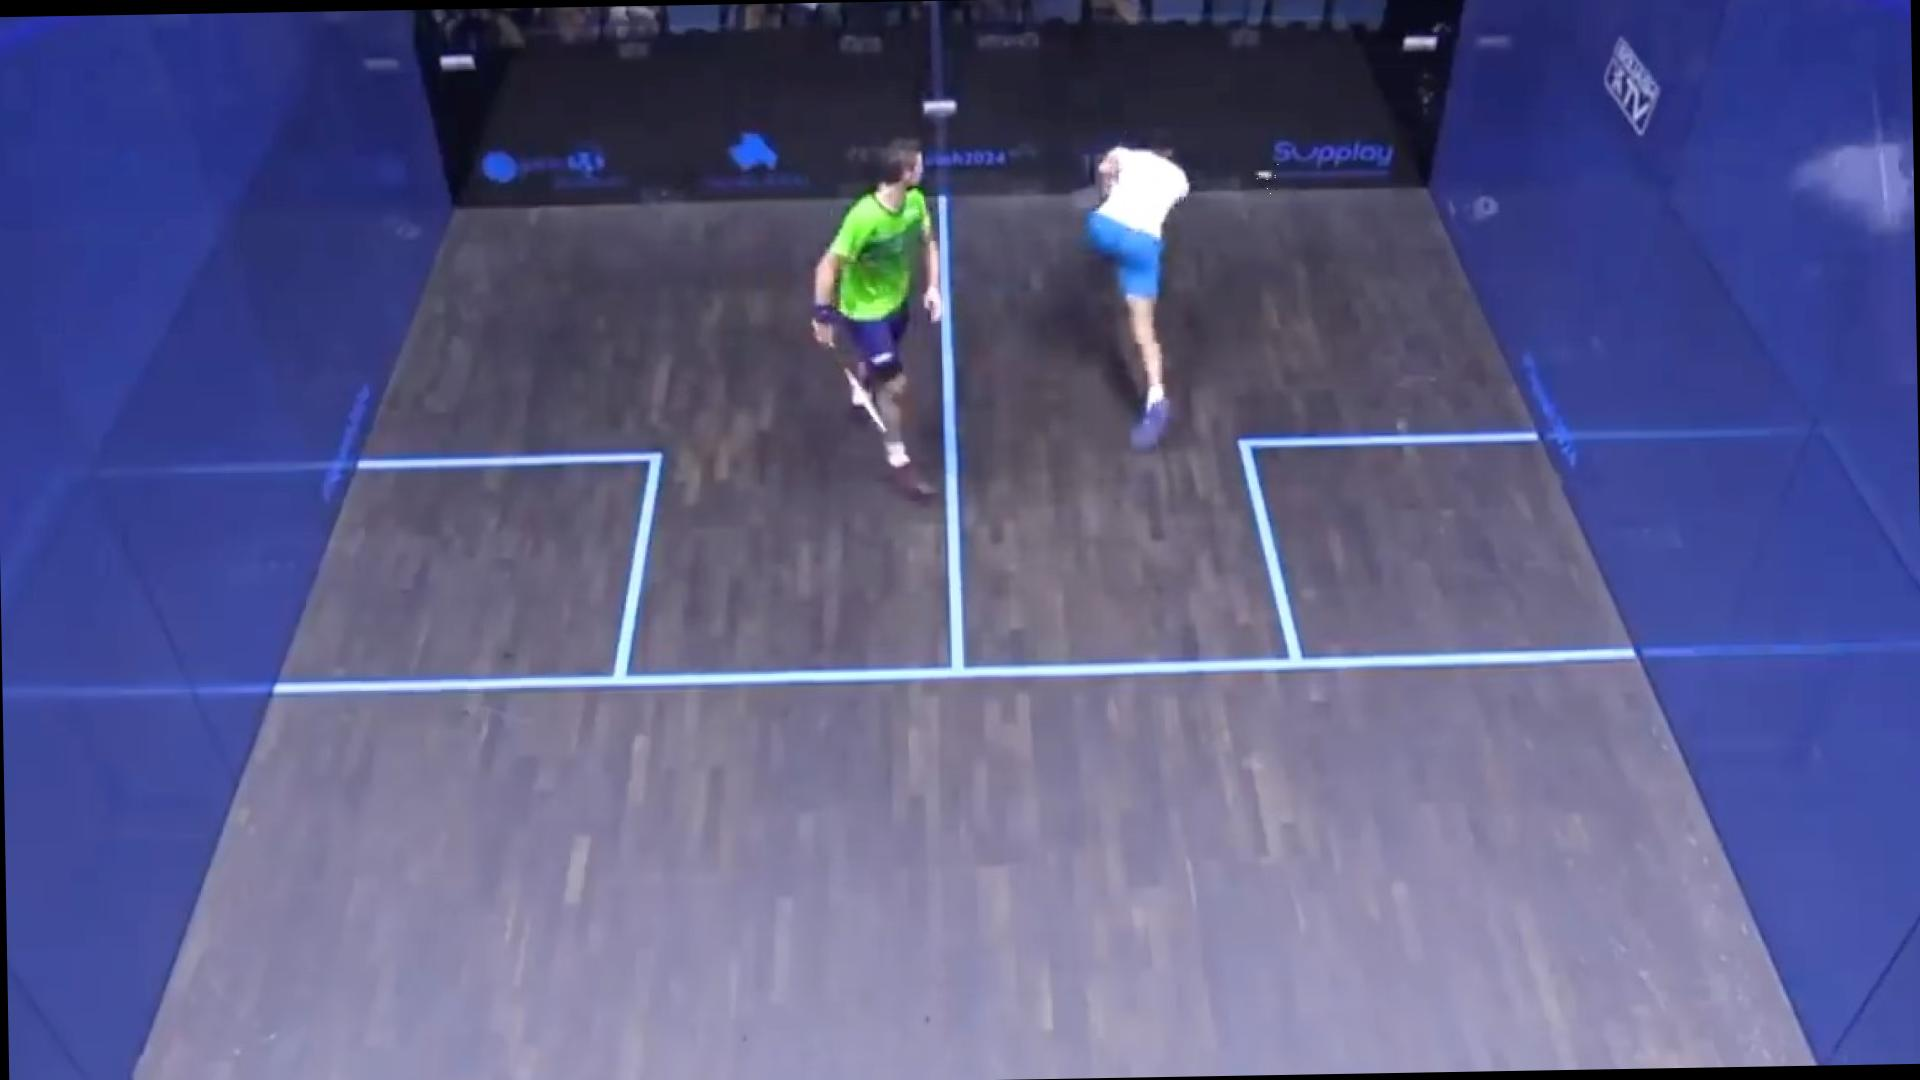Squash-Ball: (1251, 160, 1282, 196)
